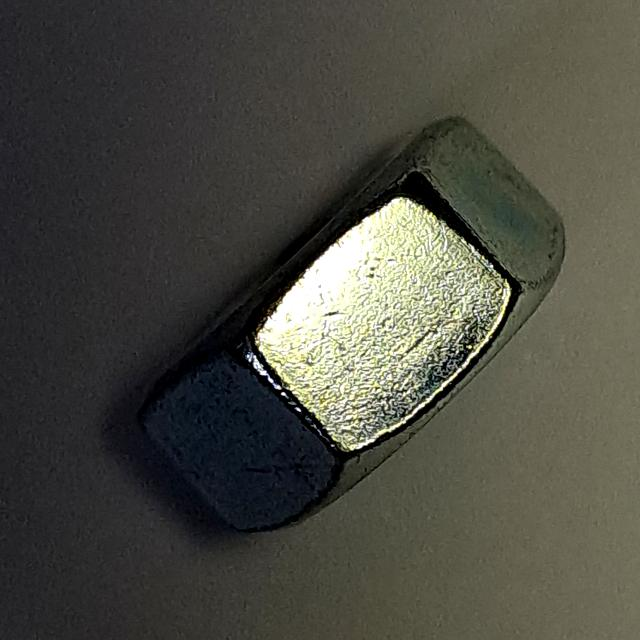Side_Excellent: (124, 102, 577, 542)
